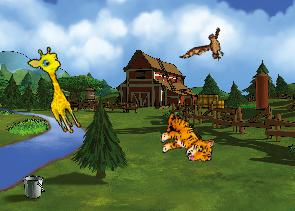eagle: (179, 18, 235, 77)
giraffe: (24, 43, 92, 137)
tiger: (157, 112, 217, 164)
